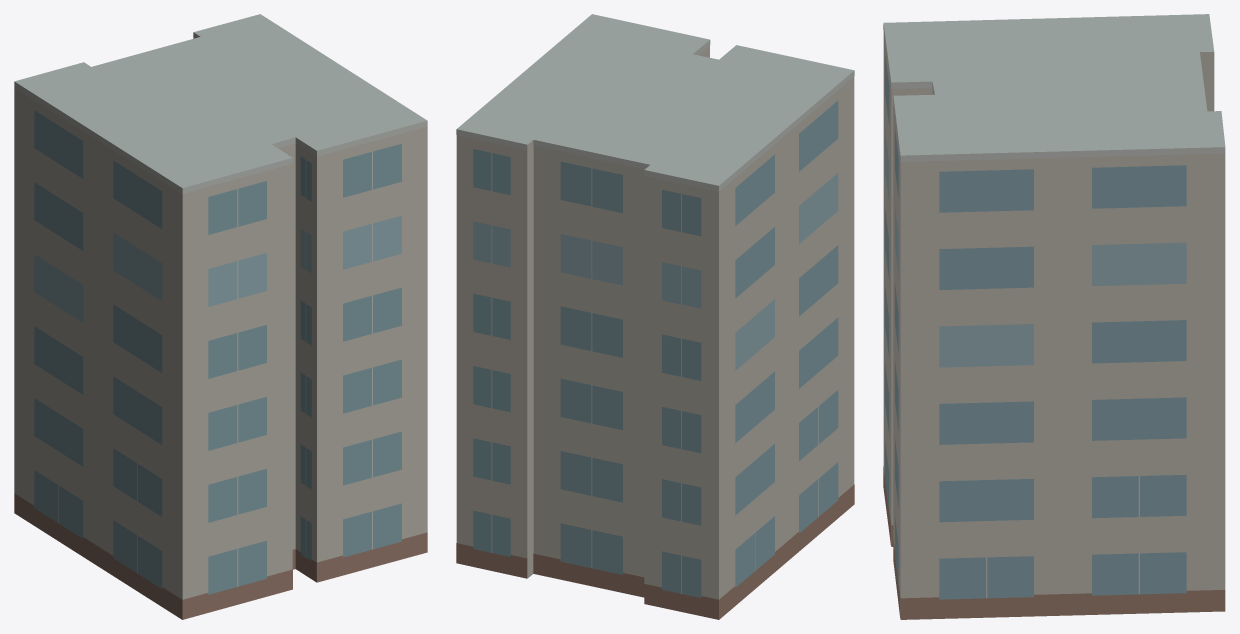
File: survey-upis-32701678.glb
The picture shows the model from 3 angles, left to right: view 1: azimuth 30°, elevation 25°; view 2: azimuth 150°, elevation 25°; view 3: azimuth 270°, elevation 25°; orthographic projection. The views are drawn at different scales.
Visible parts, largest first — view 1: survey-upis-32701678.tmp; view 2: survey-upis-32701678.tmp; view 3: survey-upis-32701678.tmp.
Part boxes in pixels (x1,y1,x2,y2): survey-upis-32701678.tmp: [14, 14, 427, 619]; survey-upis-32701678.tmp: [456, 14, 854, 619]; survey-upis-32701678.tmp: [883, 14, 1225, 619].
Size of the model in its own units: 11.78 by 18 by 12.03.
